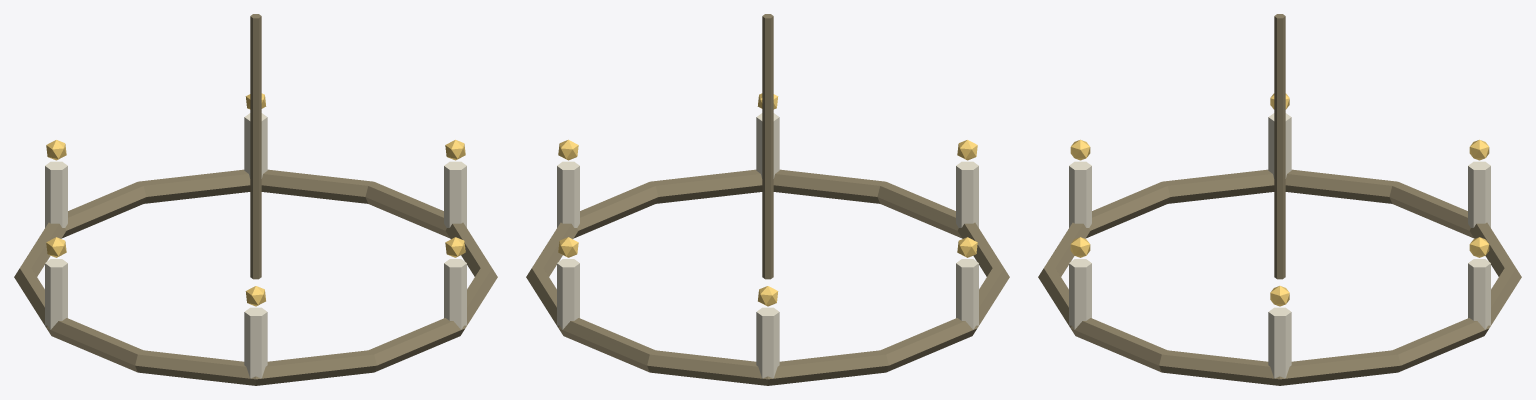
The model's file is iron_chandelier_1.glb.
3 views of the same model, side by side, from view 1: azimuth 30°, elevation 25°; view 2: azimuth 150°, elevation 25°; view 3: azimuth 270°, elevation 25° (orthographic).
Visible parts, largest first — view 1: iron_chandelier_1_ring, iron_chandelier_1_chain, iron_chandelier_1_candle.004, iron_chandelier_1_candle.003, iron_chandelier_1_candle.005, iron_chandelier_1_candle, iron_chandelier_1_candle.002, iron_chandelier_1_candle.001; view 2: iron_chandelier_1_ring, iron_chandelier_1_chain, iron_chandelier_1_candle.002, iron_chandelier_1_candle.001, iron_chandelier_1_candle.003, iron_chandelier_1_candle, iron_chandelier_1_candle.004, iron_chandelier_1_candle.005; view 3: iron_chandelier_1_ring, iron_chandelier_1_chain, iron_chandelier_1_candle, iron_chandelier_1_candle.001, iron_chandelier_1_candle.005, iron_chandelier_1_candle.002, iron_chandelier_1_candle.004, iron_chandelier_1_candle.003.
Boxes of the visible parts, box(x1,y1,x2,y2) form: iron_chandelier_1_ring: box(14, 169, 497, 385); iron_chandelier_1_chain: box(250, 14, 261, 279); iron_chandelier_1_candle.004: box(244, 307, 267, 378); iron_chandelier_1_candle.003: box(45, 259, 67, 329); iron_chandelier_1_candle.005: box(444, 259, 466, 329); iron_chandelier_1_candle: box(444, 161, 466, 227); iron_chandelier_1_candle.002: box(45, 161, 67, 227); iron_chandelier_1_candle.001: box(244, 113, 267, 178); iron_chandelier_1_ring: box(526, 169, 1009, 385); iron_chandelier_1_chain: box(762, 14, 773, 279); iron_chandelier_1_candle.002: box(756, 307, 779, 378); iron_chandelier_1_candle.001: box(557, 259, 579, 329); iron_chandelier_1_candle.003: box(956, 259, 978, 329); iron_chandelier_1_candle: box(557, 161, 579, 227); iron_chandelier_1_candle.004: box(956, 161, 978, 227); iron_chandelier_1_candle.005: box(756, 113, 779, 178); iron_chandelier_1_ring: box(1038, 169, 1521, 385); iron_chandelier_1_chain: box(1274, 14, 1285, 279); iron_chandelier_1_candle: box(1268, 307, 1291, 378); iron_chandelier_1_candle.001: box(1468, 259, 1490, 329); iron_chandelier_1_candle.005: box(1069, 259, 1091, 329); iron_chandelier_1_candle.002: box(1468, 161, 1490, 227); iron_chandelier_1_candle.004: box(1069, 161, 1091, 227); iron_chandelier_1_candle.003: box(1268, 113, 1291, 178).
Bounding box in the file's own units: 0.84 × 0.5173 × 0.84.
